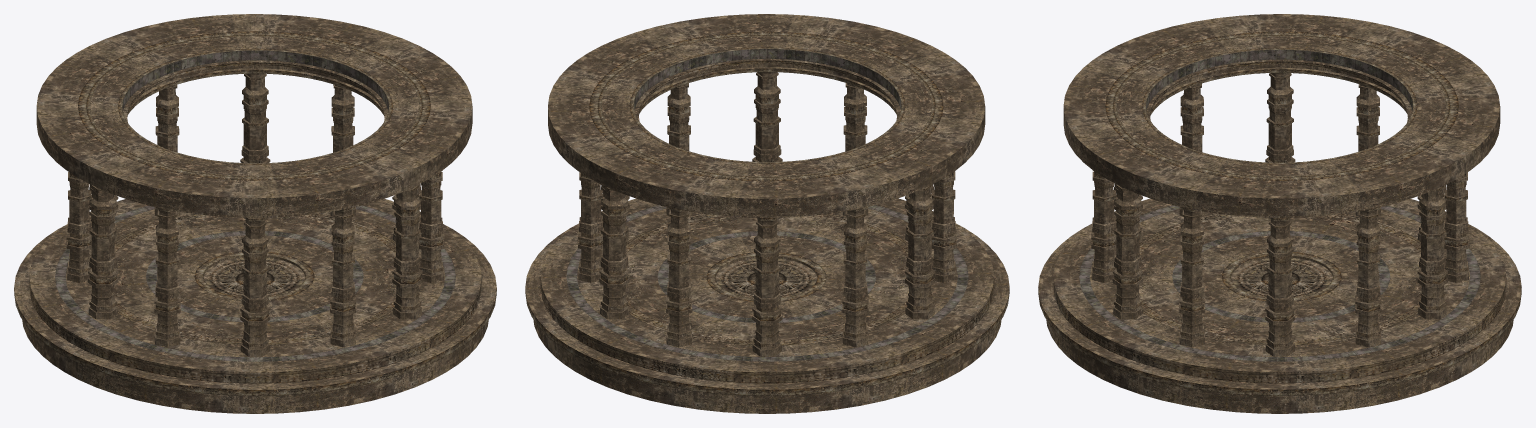
The model's file is materials_5_building_20.fbx.
3 views of the same model, side by side, from view 1: azimuth 30°, elevation 25°; view 2: azimuth 150°, elevation 25°; view 3: azimuth 270°, elevation 25° (orthographic).
Visible parts, largest first — view 1: materials_5_building_20; view 2: materials_5_building_20; view 3: materials_5_building_20.
Part boxes in pixels (x1=…): materials_5_building_20: x1=14, y1=14, x2=496, y2=413; materials_5_building_20: x1=525, y1=14, x2=1009, y2=413; materials_5_building_20: x1=1038, y1=14, x2=1521, y2=413.
Size of the model in its own units: 808 by 385 by 808.
